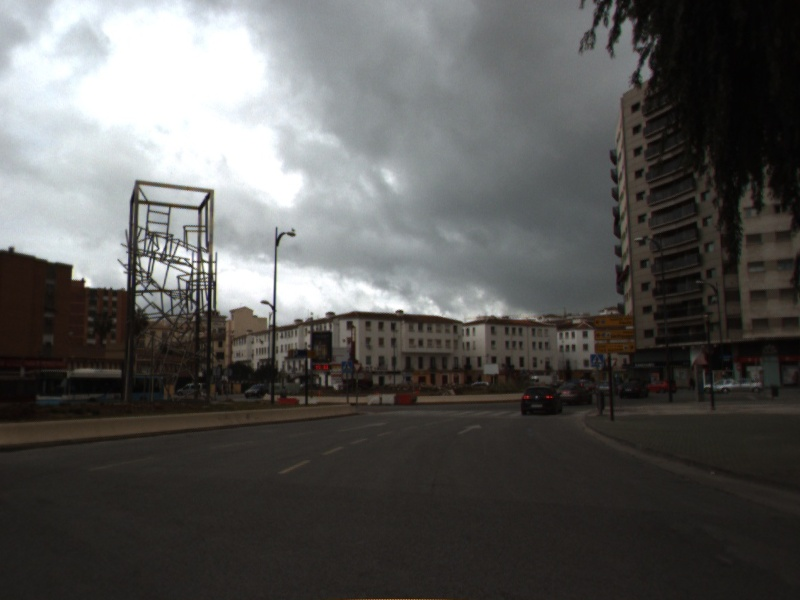STRAIGHT: (455, 422, 484, 437)
